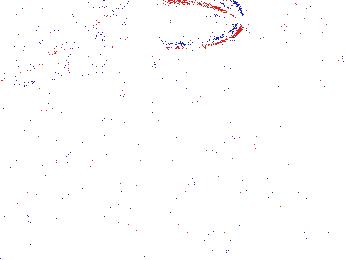moon jellyfish: (273, 1, 346, 90), (117, 1, 244, 50), (22, 1, 113, 56), (103, 1, 158, 88)
